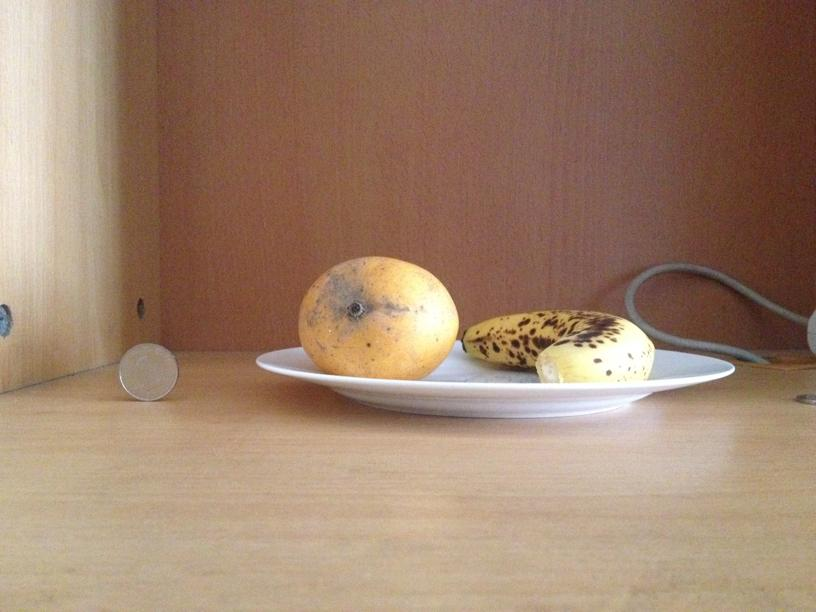banana: (464, 308, 654, 383)
coin: (115, 341, 178, 400)
mango: (299, 257, 459, 378)
